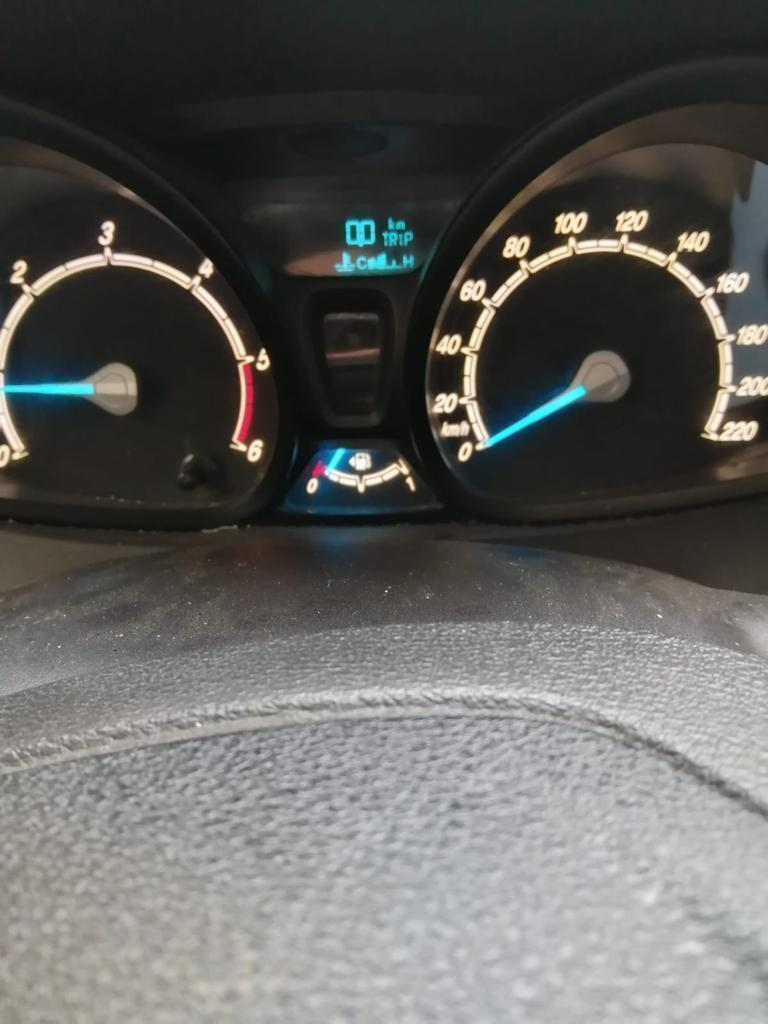,: (358, 241, 364, 249)
0: (361, 218, 377, 244), (345, 218, 359, 245)
X: (402, 253, 415, 269), (356, 255, 367, 270), (404, 231, 414, 246), (389, 231, 397, 246), (387, 215, 395, 229), (382, 231, 389, 247), (396, 219, 405, 229), (398, 232, 403, 246)
odometer: (257, 195, 438, 279)
